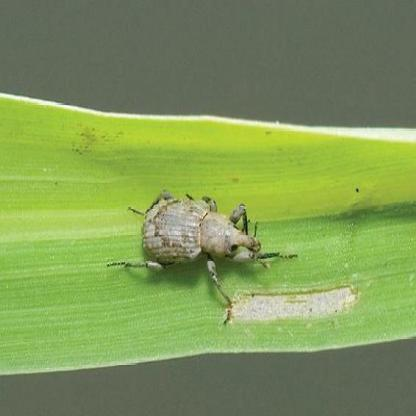rice-bug: (116, 186, 264, 302)
